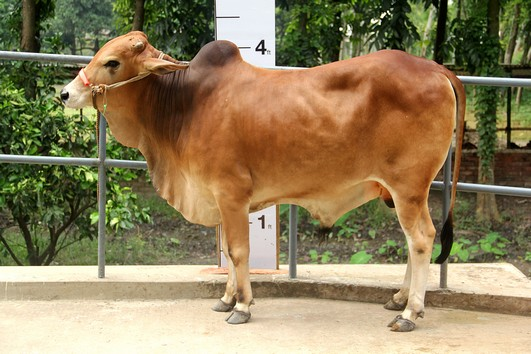cow: (52, 20, 466, 337)
